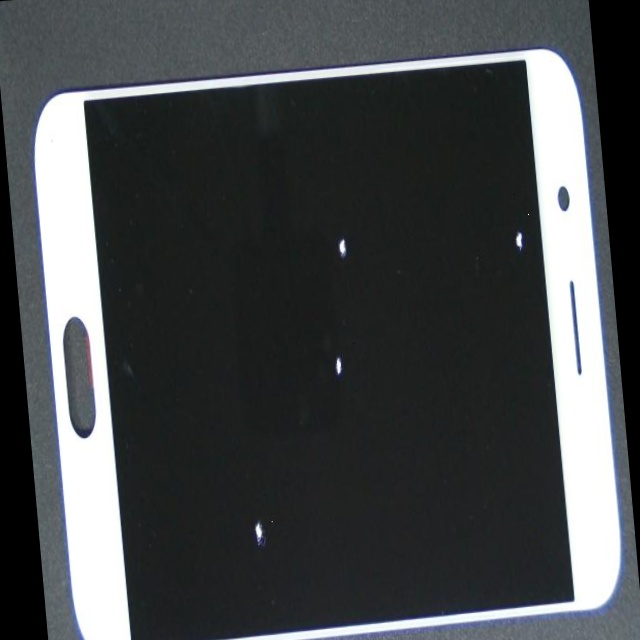stain: (163, 181, 504, 640), (233, 83, 624, 439), (170, 58, 504, 381), (85, 267, 368, 640)
